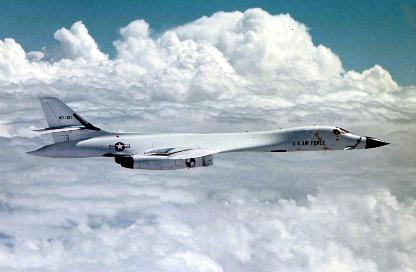AV8B: (25, 95, 397, 169)
